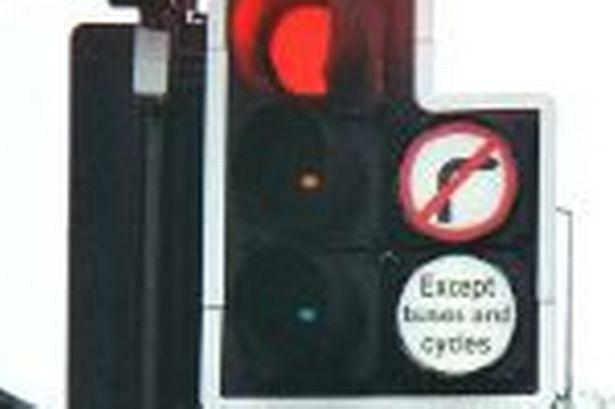no_right_turn: (394, 119, 520, 240)
